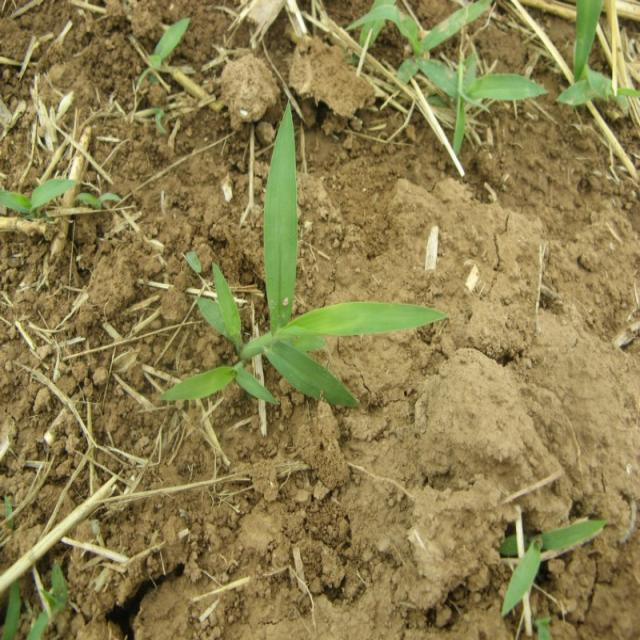bg: (156, 103, 449, 410)
